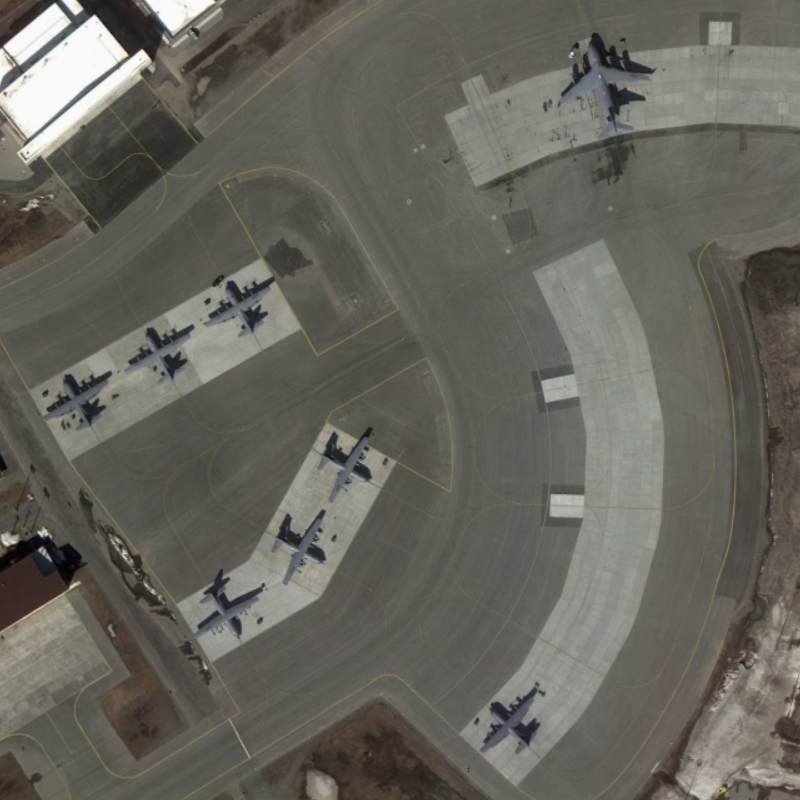A2: (470, 673, 549, 761), (302, 423, 384, 505), (259, 505, 336, 591), (196, 271, 286, 344), (185, 570, 268, 648), (37, 366, 117, 437), (121, 319, 201, 389)
A3: (552, 32, 659, 146)
